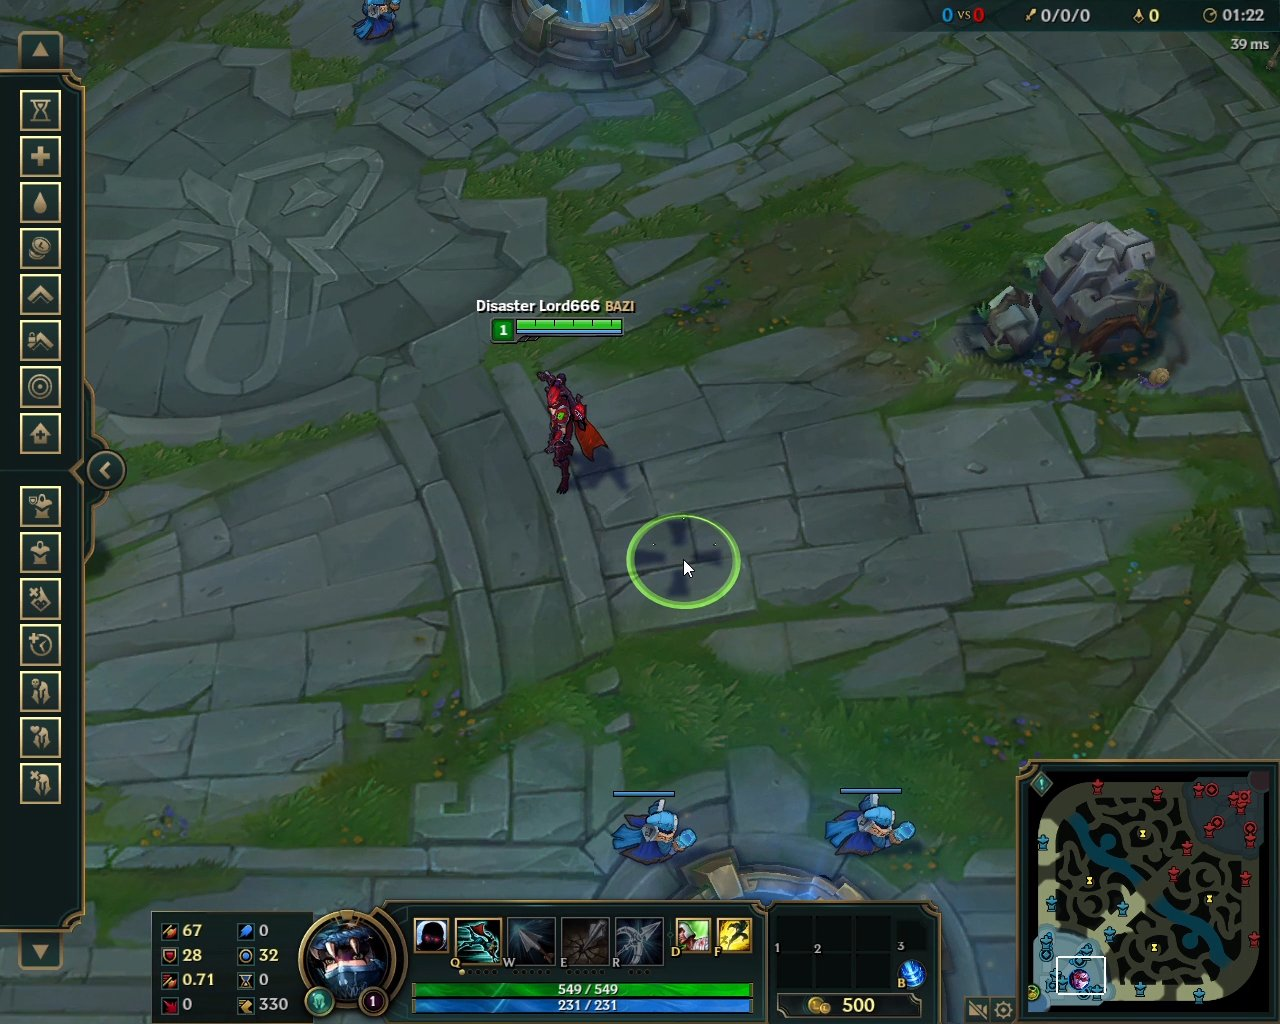Vayne: (529, 364, 614, 501)
